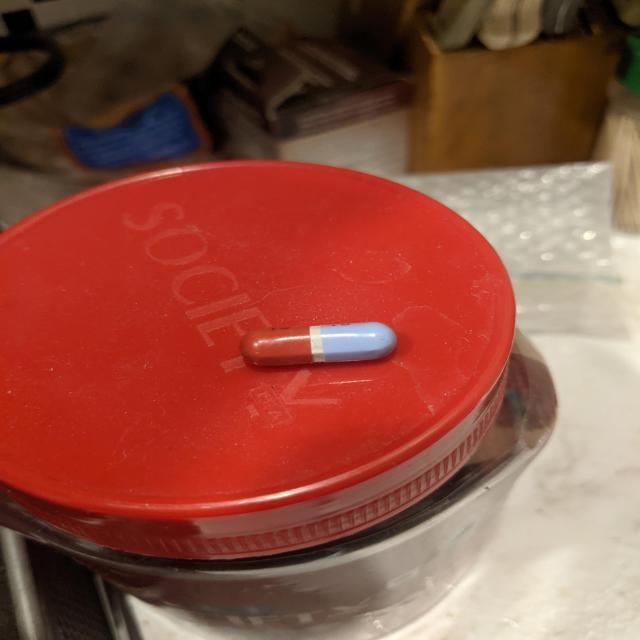non-organic waste: (238, 320, 398, 368)
